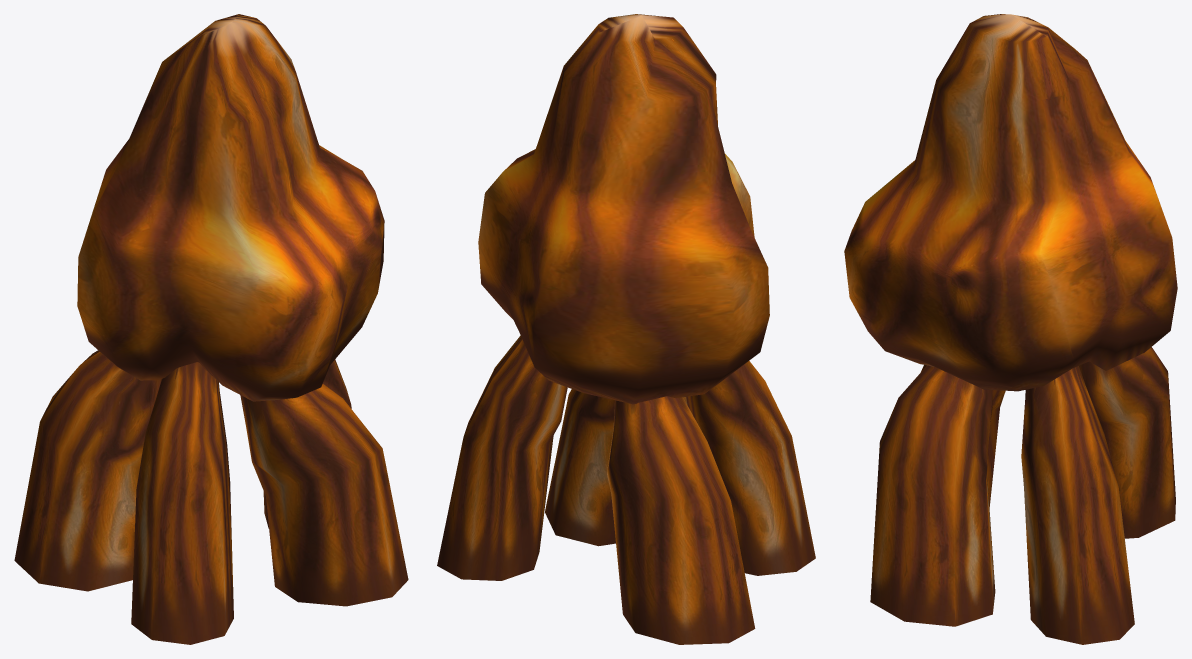
Rendered from tree1.FBX.
3 views of the same model, side by side, from view 1: azimuth 30°, elevation 25°; view 2: azimuth 150°, elevation 25°; view 3: azimuth 270°, elevation 25° (orthographic).
Parts seen in each view (by area): view 1: topTree11, tree1; view 2: topTree11, tree1; view 3: topTree11, tree1.
Boxes of the visible parts, x1,y1,x2,y2 form: topTree11: [77, 14, 384, 401]; tree1: [14, 350, 408, 644]; topTree11: [478, 14, 769, 404]; tree1: [437, 335, 815, 644]; topTree11: [844, 14, 1177, 391]; tree1: [870, 347, 1175, 644].
Bounding box in the file's own units: 12.13 × 11.01 × 20.16.
